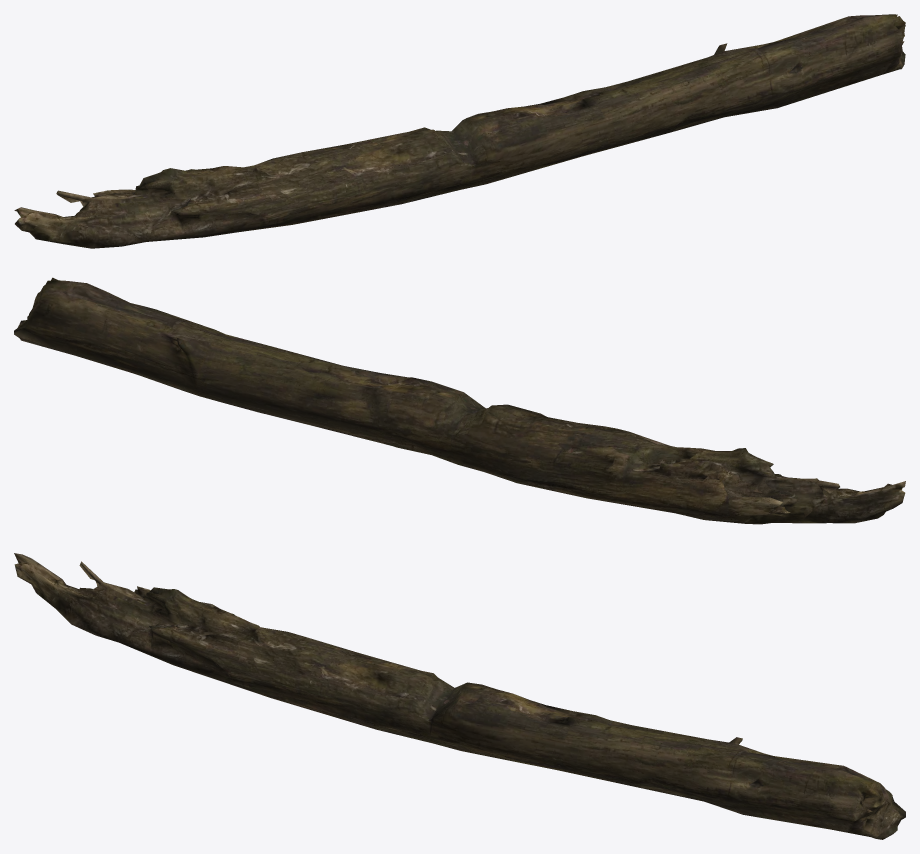
The model's file is drift_a.glb.
3 renders of one model, top to bottom at view 1: azimuth 30°, elevation 25°; view 2: azimuth 150°, elevation 25°; view 3: azimuth 330°, elevation 25°, orthographic.
Parts seen in each view (by area): view 1: dead_tree_trunk; view 2: dead_tree_trunk; view 3: dead_tree_trunk.
Boxes of the visible parts, x1,y1,x2,y2 form: dead_tree_trunk: (14,14,905,248); dead_tree_trunk: (14,277,905,524); dead_tree_trunk: (14,553,905,839).
Bounding box in the file's own units: 3.05 × 0.2867 × 0.2746.
1 material, 1 textured.
